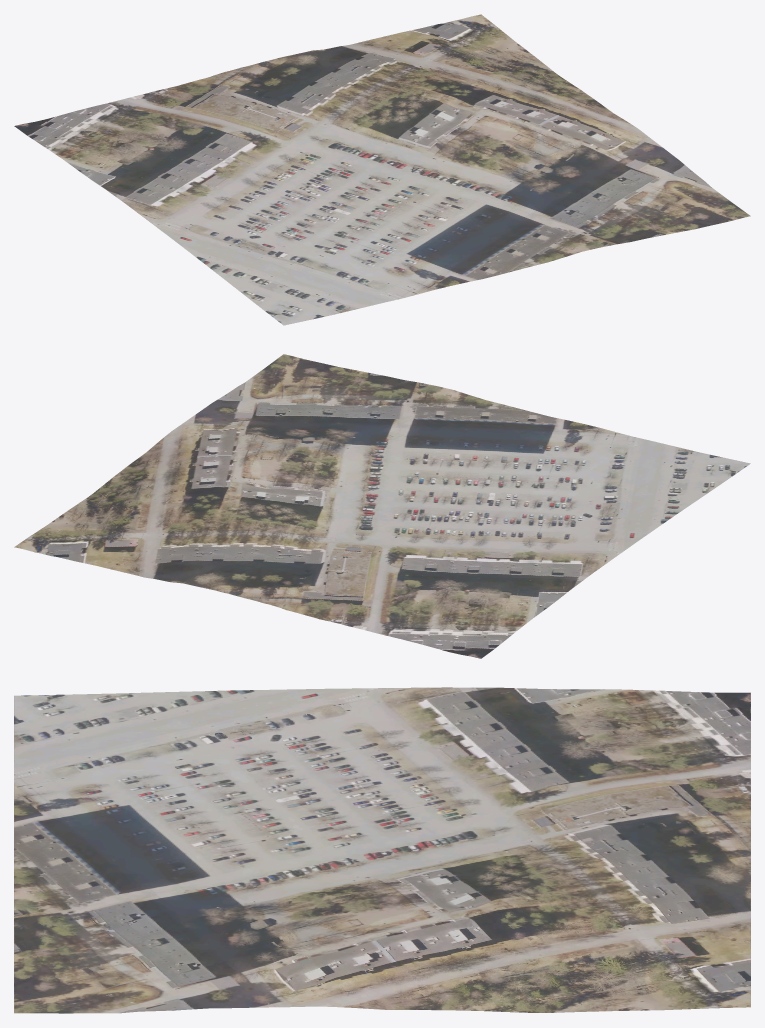
Rendered from CM_Terrain_24491278_6815903.fbx.
The picture shows the model from 3 angles, top to bottom: view 1: azimuth 30°, elevation 25°; view 2: azimuth 150°, elevation 25°; view 3: azimuth 270°, elevation 25°; orthographic projection. The views are drawn at different scales.
Visible parts, largest first — view 1: CM_Terrain_24491278_6815903_LOD0; view 2: CM_Terrain_24491278_6815903_LOD0; view 3: CM_Terrain_24491278_6815903_LOD0.
Part boxes in pixels (x1,y1,x2,y2): CM_Terrain_24491278_6815903_LOD0: (14, 14, 750, 325); CM_Terrain_24491278_6815903_LOD0: (14, 354, 750, 658); CM_Terrain_24491278_6815903_LOD0: (14, 687, 750, 1013).
Size of what is drawn, in the model's own units: 205 by 7.69 by 205.
